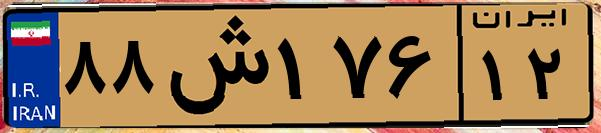1: (270, 28, 330, 110), (475, 38, 525, 113)
2: (525, 38, 570, 115)
6: (385, 28, 445, 110)
7: (330, 28, 385, 110)
8: (57, 26, 110, 100), (110, 28, 158, 98)
ش: (158, 12, 270, 120)
